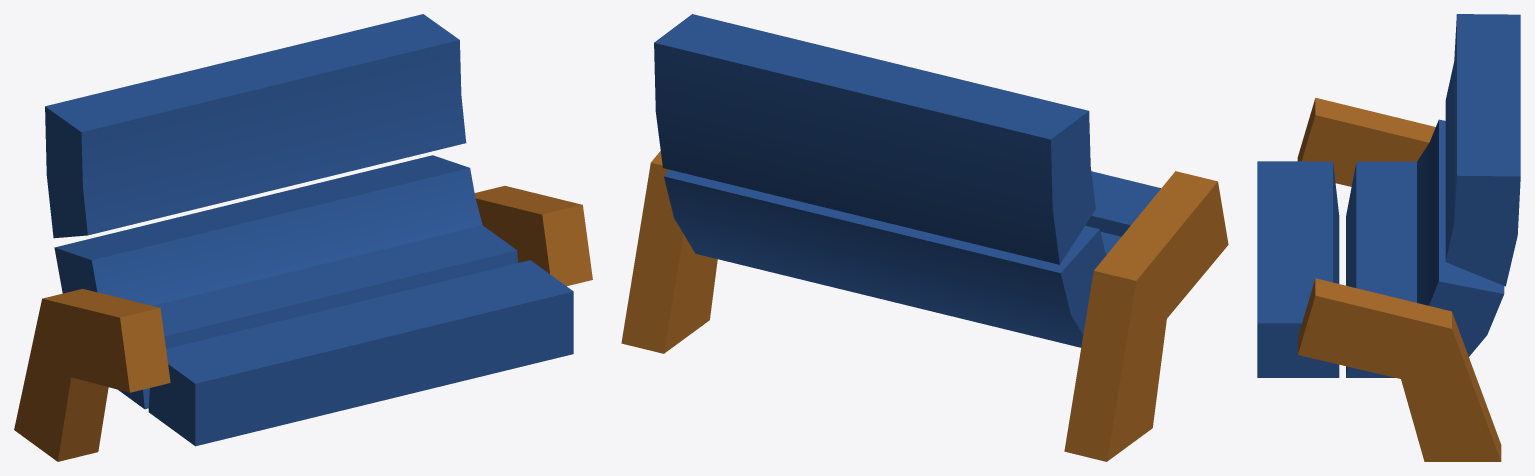
Rendered from bench_04.fbx.
The picture shows the model from 3 angles, left to right: view 1: azimuth 30°, elevation 25°; view 2: azimuth 150°, elevation 25°; view 3: azimuth 270°, elevation 25°; orthographic projection. The views are drawn at different scales.
Parts seen in each view (by area): view 1: bench_04; view 2: bench_04; view 3: bench_04.
Part boxes in pixels (box(x1,y1,x2,y2)): bench_04: box(14, 14, 592, 461); bench_04: box(621, 14, 1228, 461); bench_04: box(1257, 14, 1520, 461).
Bounding box in the file's own units: 128 × 80.61 × 71.83.
